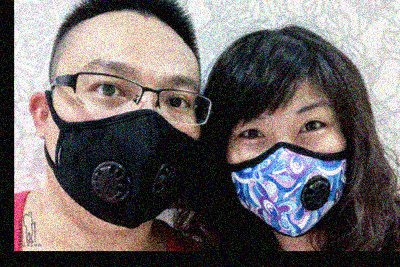with_mask: (51, 58, 202, 231), (224, 98, 350, 239)
